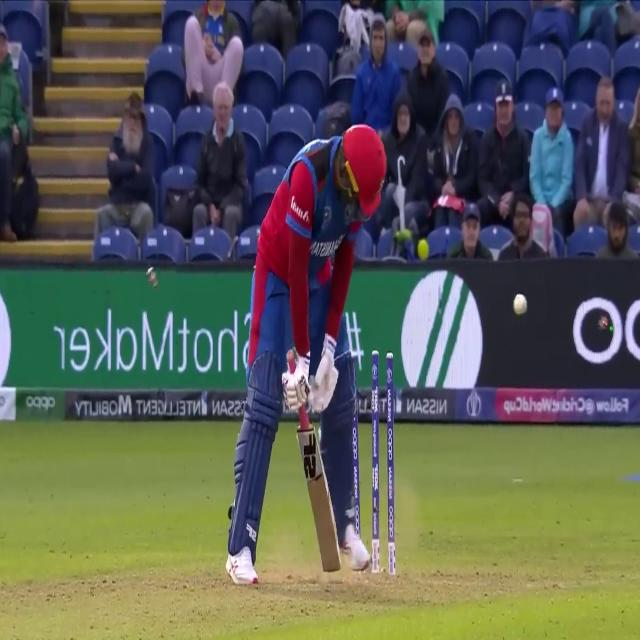ball: (511, 290, 532, 318)
